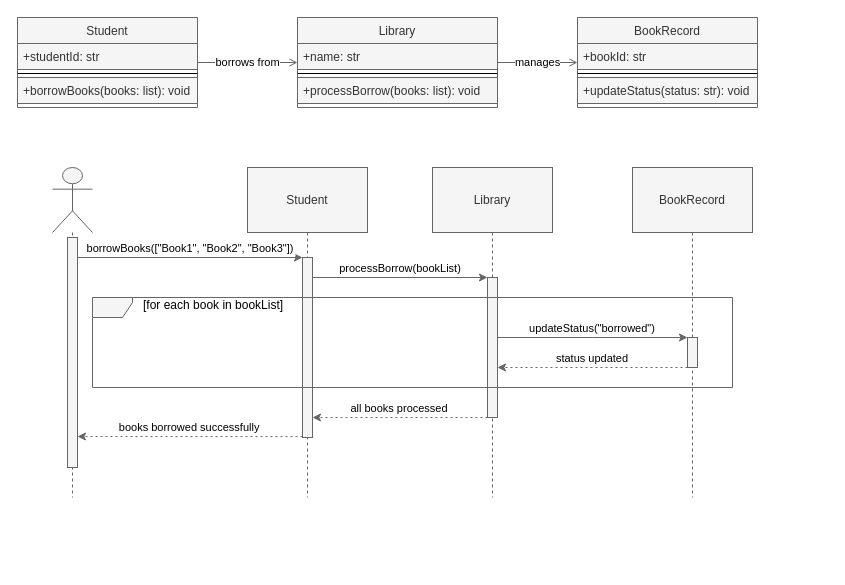
Some shapes in this 845 by 585 pixel diagram are drawn without their labels. Each missing label, with the box of its shape:
loop: (92, 296, 732, 388)
user: (52, 166, 92, 498)
